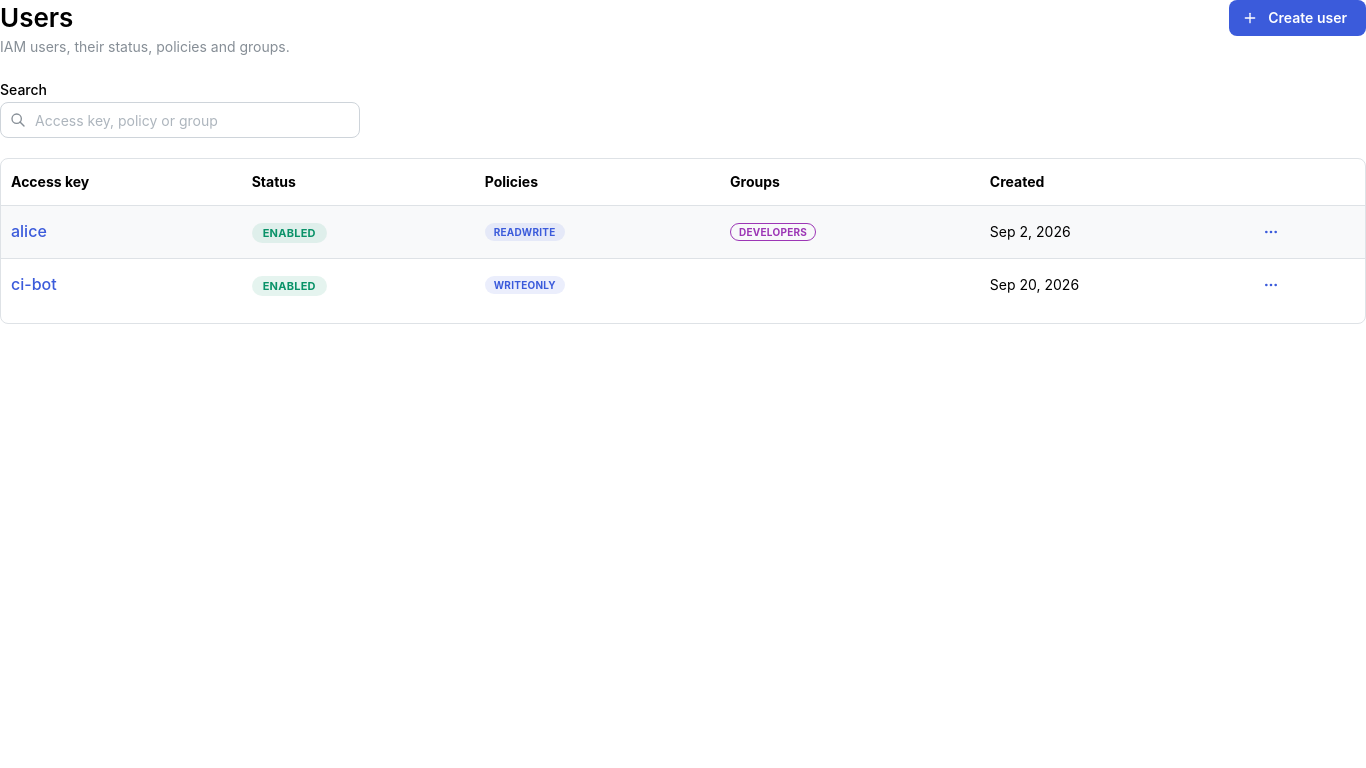
Users page (D-IAM-01) › shows the server error when the user already exists
The image size is (1366, 768).
Click the button "Create user" at (1298, 18), box [1229,0,1365,36]
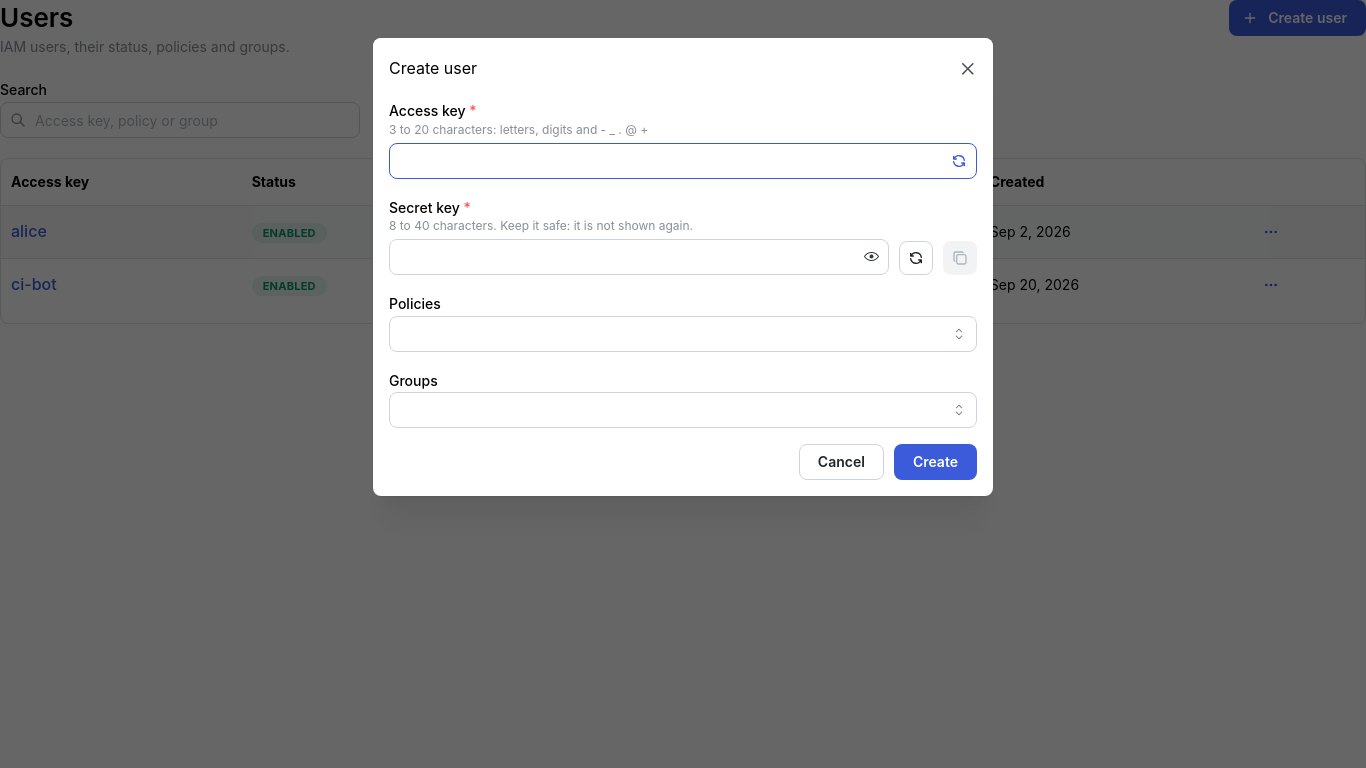
Type "alice" into the field labelled "Access key *" at (683, 161), box [389,143,977,179]
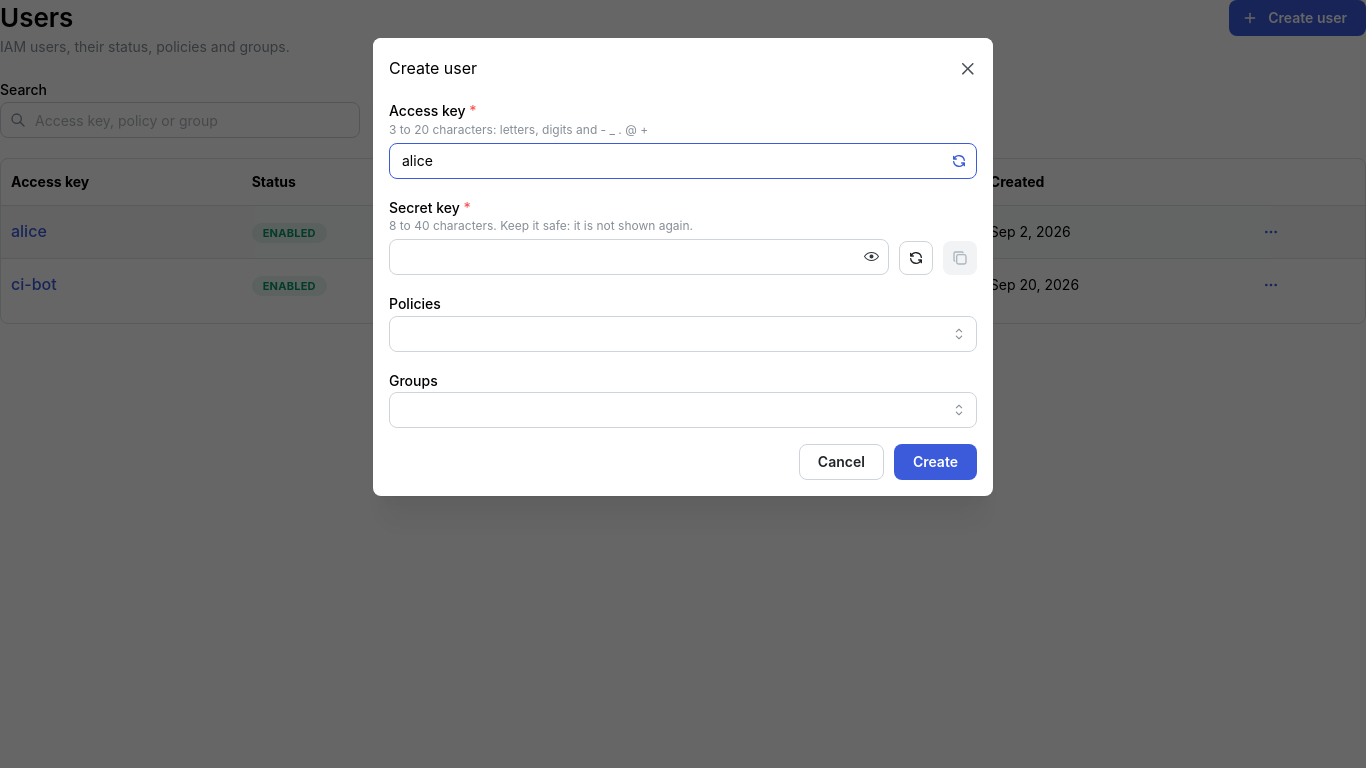
Click the button named "Generate a secret key" at (916, 258), box [899,241,933,275]
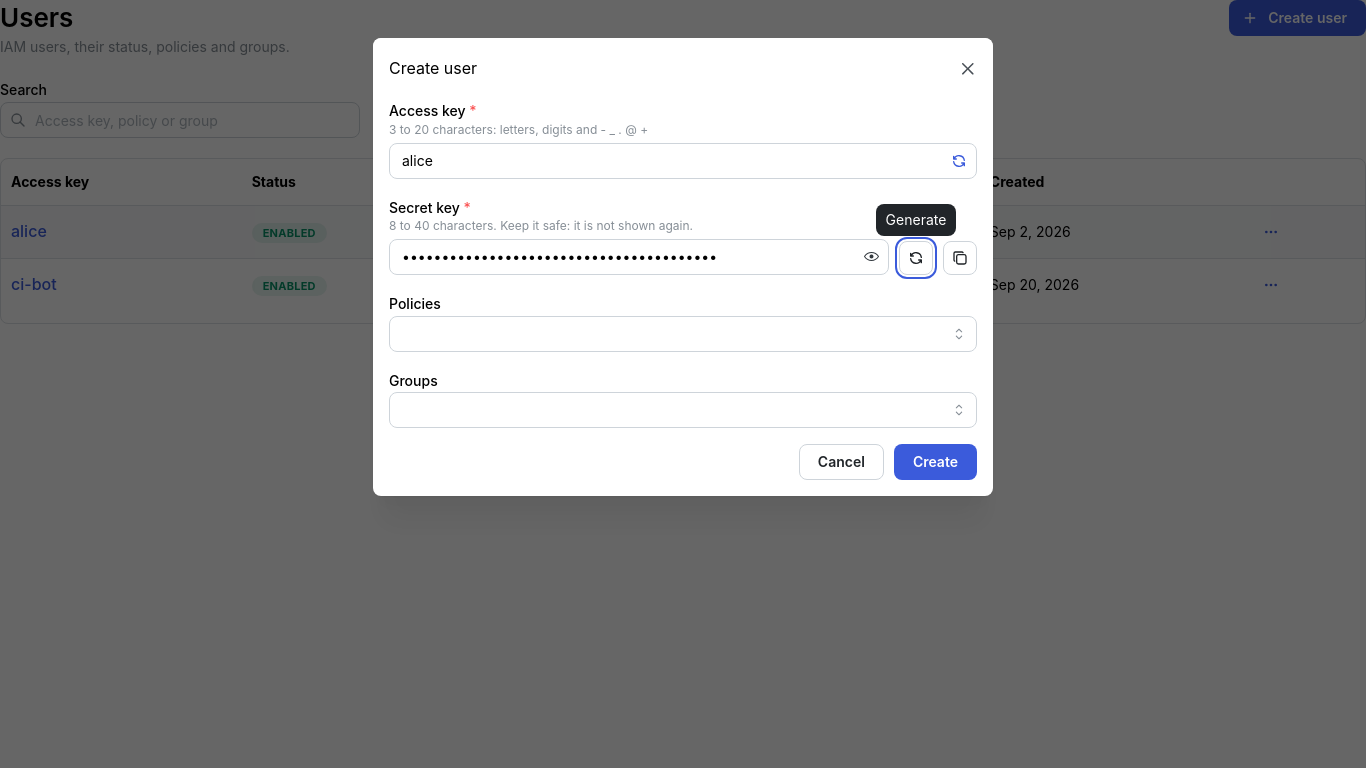
Click the button "Create" at (935, 462), box [894,444,977,480]
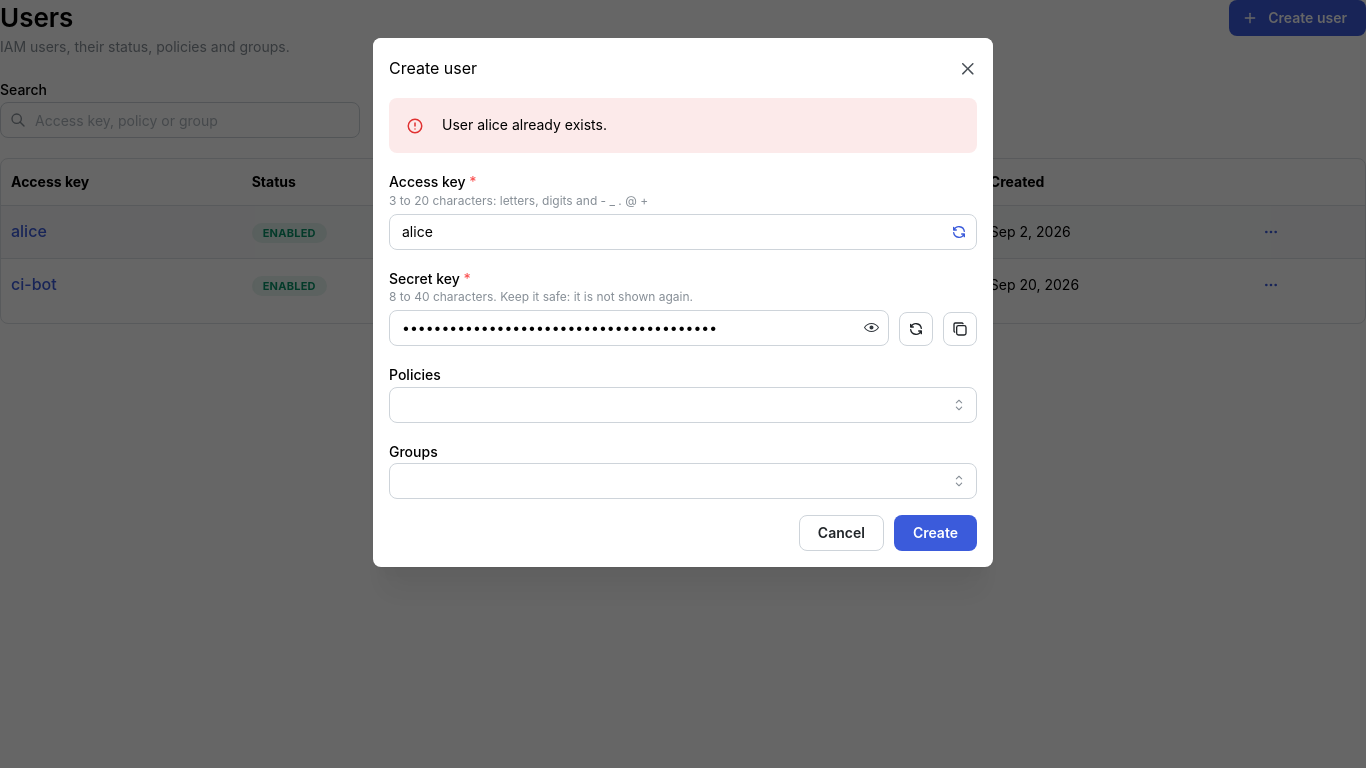
Result: the message reads "User alice already exists." at [442,116,607,133]
